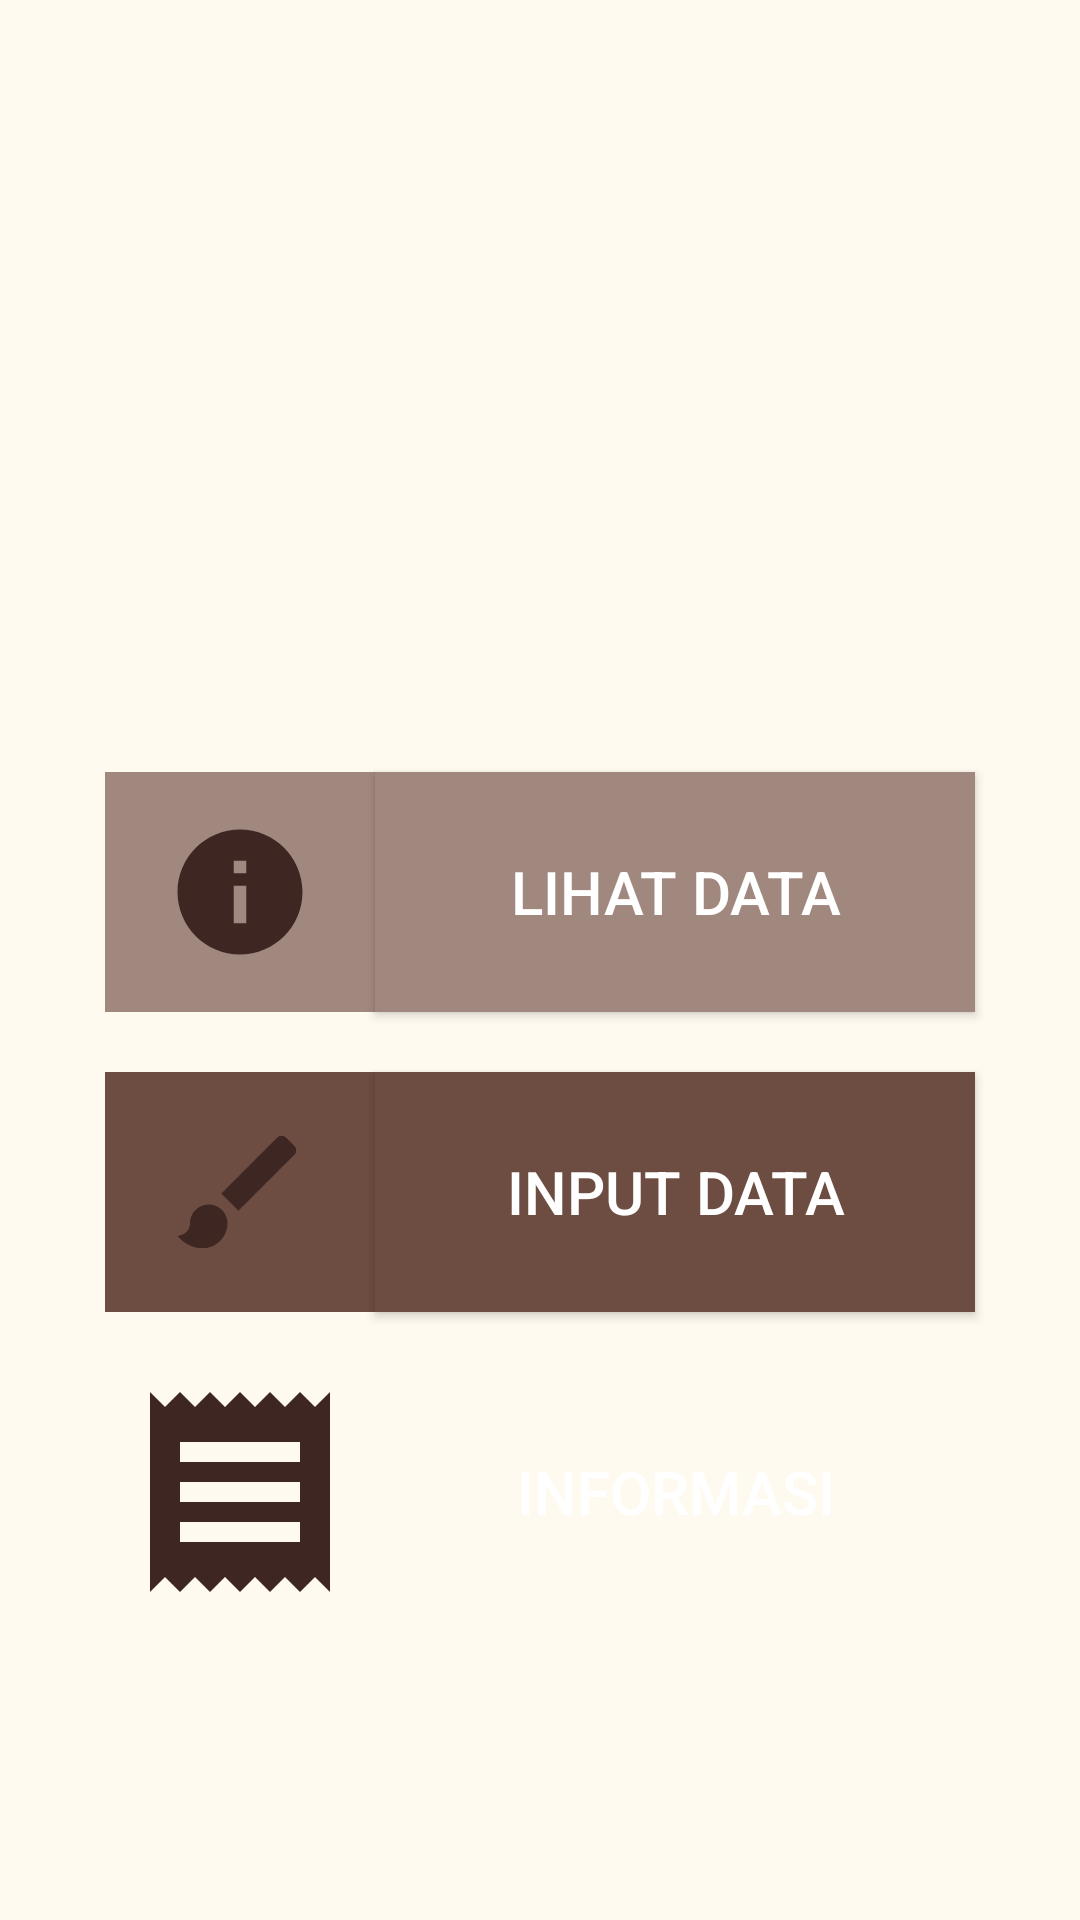

Screen size 1080px x 1920px. Icon name, then its center in pixels as point (x, y):
brush: point (240, 1192)
info: point (240, 892)
receipt: point (240, 1492)
